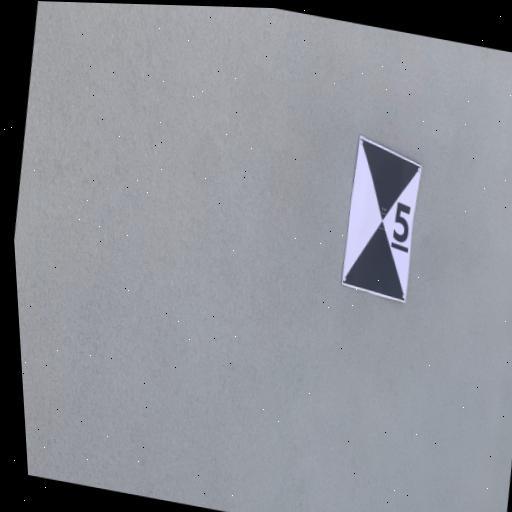target5: (343, 135, 422, 308)
